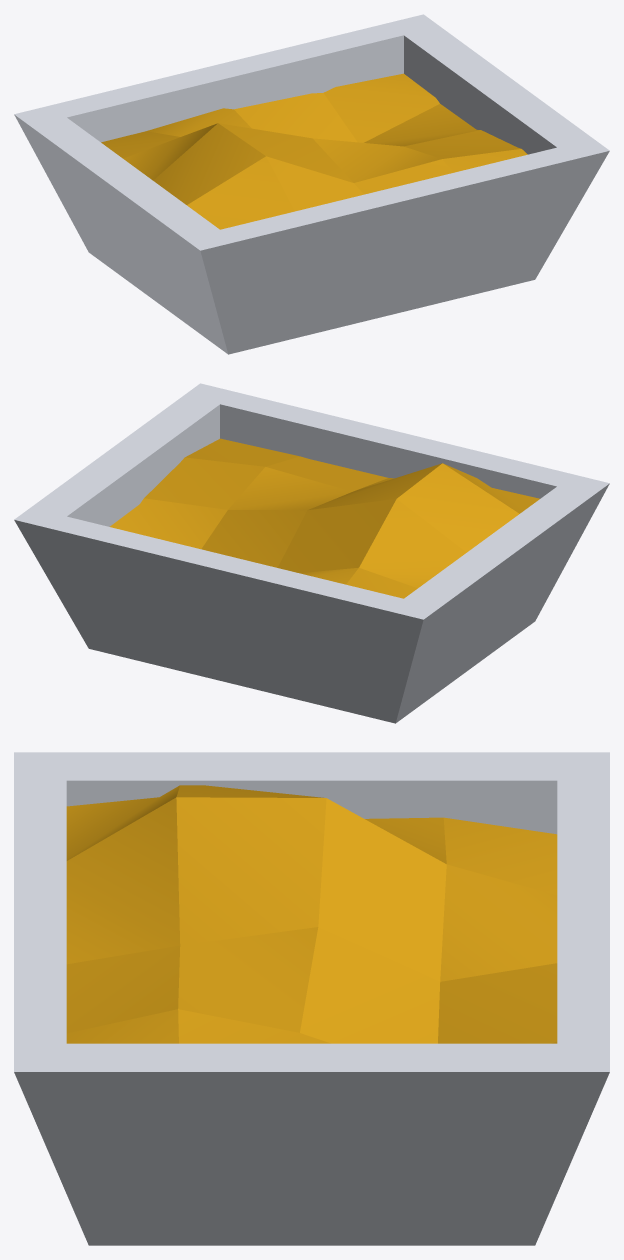
The model's file is sauce mustard.obj.
The picture shows the model from 3 angles, top to bottom: view 1: azimuth 30°, elevation 25°; view 2: azimuth 150°, elevation 25°; view 3: azimuth 270°, elevation 25°; orthographic projection. The views are drawn at different scales.
Parts seen in each view (by area): view 1: Cube_Mesh; view 2: Cube_Mesh; view 3: Cube_Mesh.
Part boxes in pixels (<box>): Cube_Mesh: <box>14,14,609,354</box>; Cube_Mesh: <box>14,383,609,723</box>; Cube_Mesh: <box>14,752,609,1245</box>.
Size of the model in its own units: 0.1104 by 0.0418 by 0.087.
